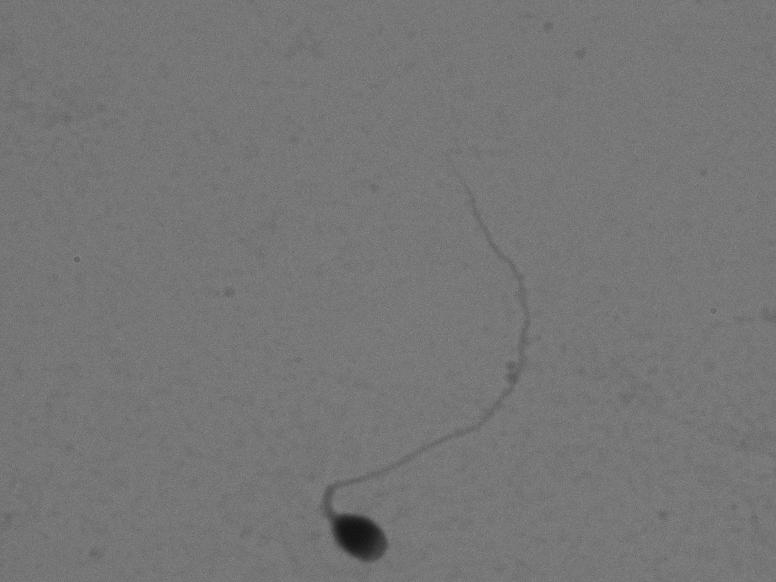Normal: (228, 156, 575, 570)
